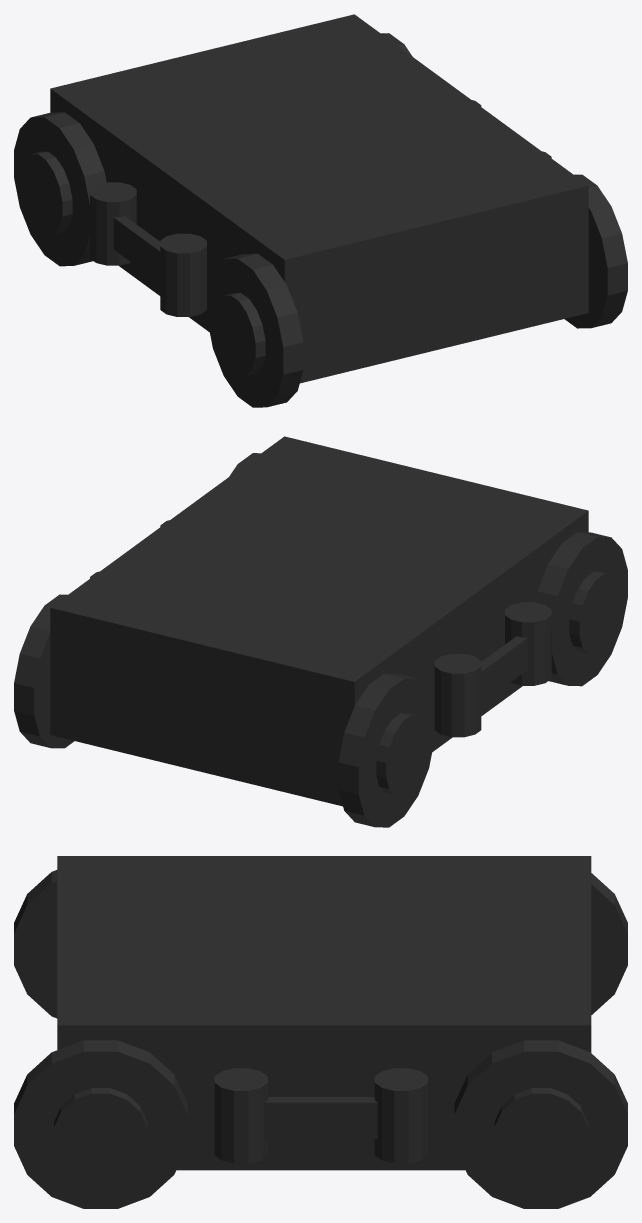
The model's file is Running Gear.gltf.
The picture shows the model from 3 angles, top to bottom: view 1: azimuth 30°, elevation 25°; view 2: azimuth 150°, elevation 25°; view 3: azimuth 270°, elevation 25°; orthographic projection. The views are drawn at different scales.
Visible parts, largest first — view 1: cube (×2), cylinder (×7); view 2: cube (×2), cylinder (×7); view 3: cube (×2), cylinder (×8).
Boxes of the visible parts, x1,y1,x2,y2 form: cube (×2): [50, 14, 588, 383]; cylinder (×7): [14, 112, 627, 407]; cube (×2): [50, 436, 588, 806]; cylinder (×7): [14, 532, 627, 827]; cube (×2): [57, 856, 591, 1170]; cylinder (×8): [14, 870, 627, 1208].
Size of the model in its own units: 0.2375 by 0.0891 by 0.2875.
1 material, 1 textured.
